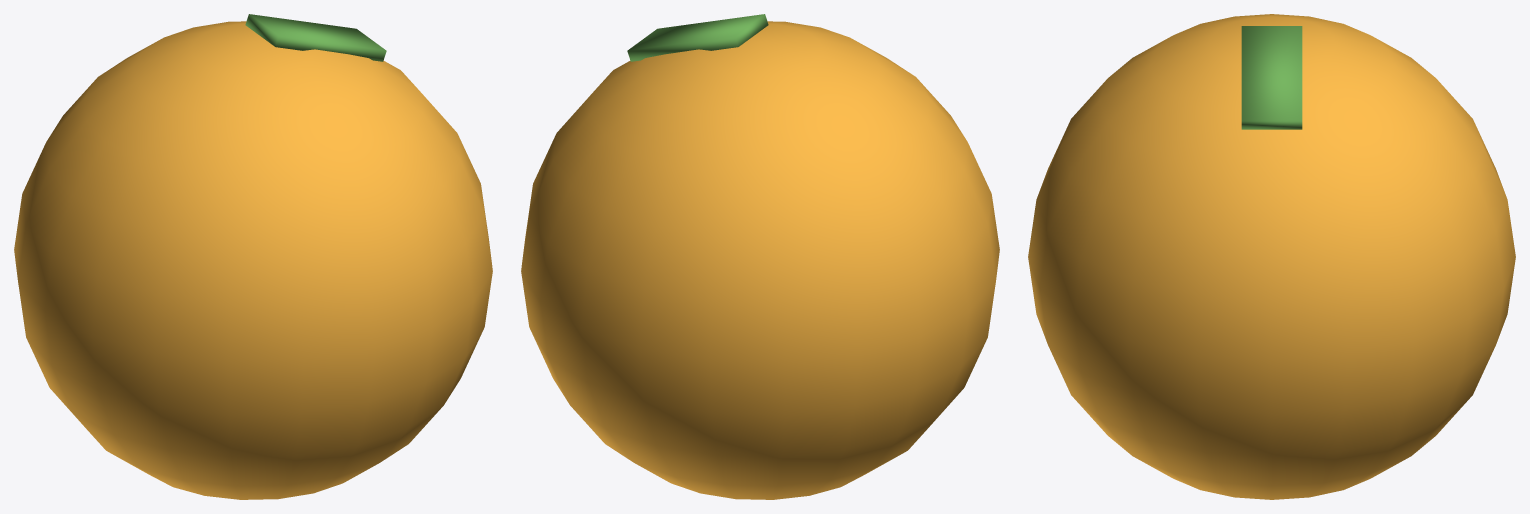
Rendered from Food_jeruk.fbx.
3 renders of one model, left to right at view 1: azimuth 30°, elevation 25°; view 2: azimuth 150°, elevation 25°; view 3: azimuth 270°, elevation 25°, orthographic.
Visible parts, largest first — view 1: Food_jeruk; view 2: Food_jeruk; view 3: Food_jeruk.
Part boxes in pixels (x1,y1,x2,y2): Food_jeruk: (14, 14, 492, 499); Food_jeruk: (521, 14, 999, 499); Food_jeruk: (1028, 14, 1515, 499).
Bounding box in the file's own units: 0.08 × 0.0827 × 0.08.
